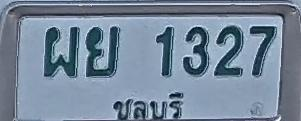1: (156, 26, 173, 77)
2: (214, 26, 243, 76)
3: (182, 26, 208, 76)
7: (250, 25, 276, 77)
A28: (43, 26, 80, 78)
A34: (85, 26, 120, 77)
CBI: (109, 88, 188, 121)
